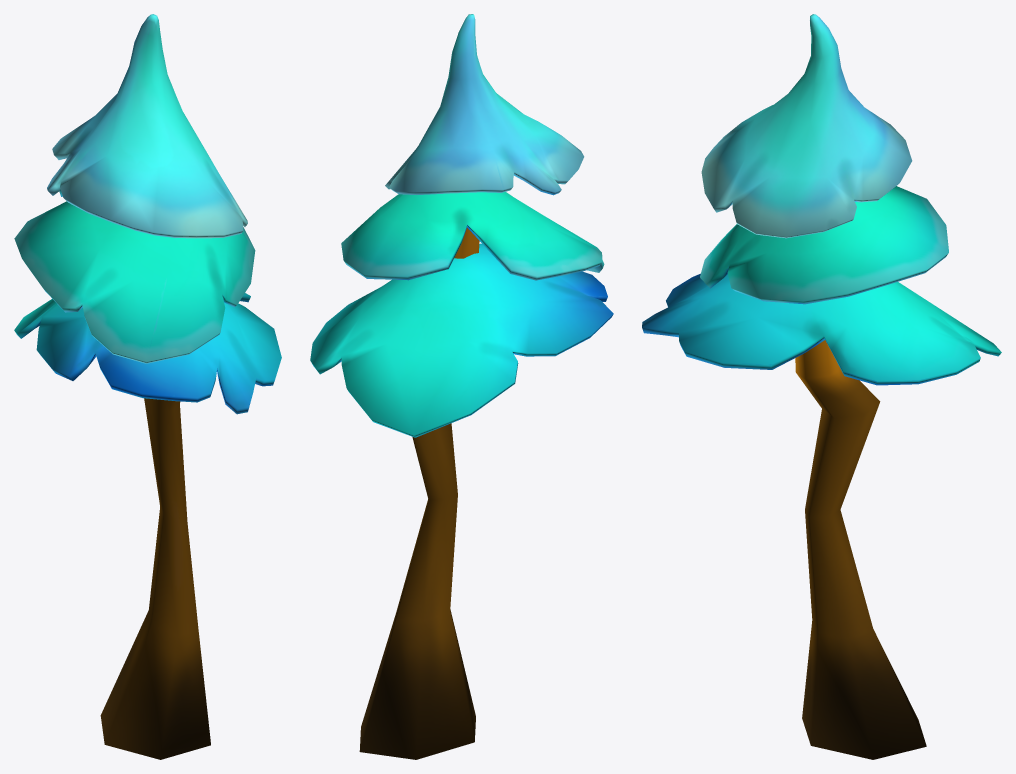
The model's file is TreeStyle2Blue_09.fbx.
The picture shows the model from 3 angles, left to right: view 1: azimuth 30°, elevation 25°; view 2: azimuth 150°, elevation 25°; view 3: azimuth 270°, elevation 25°; orthographic projection. The views are drawn at different scales.
Visible parts, largest first — view 1: TreeStyle2_09; view 2: TreeStyle2_09; view 3: TreeStyle2_09.
Part boxes in pixels (left/top/right/bottom): TreeStyle2_09: left=14, top=14, right=281, bottom=759; TreeStyle2_09: left=310, top=14, right=613, bottom=759; TreeStyle2_09: left=642, top=14, right=1001, bottom=759.
Size of the model in its own units: 343 by 1035 by 478.
